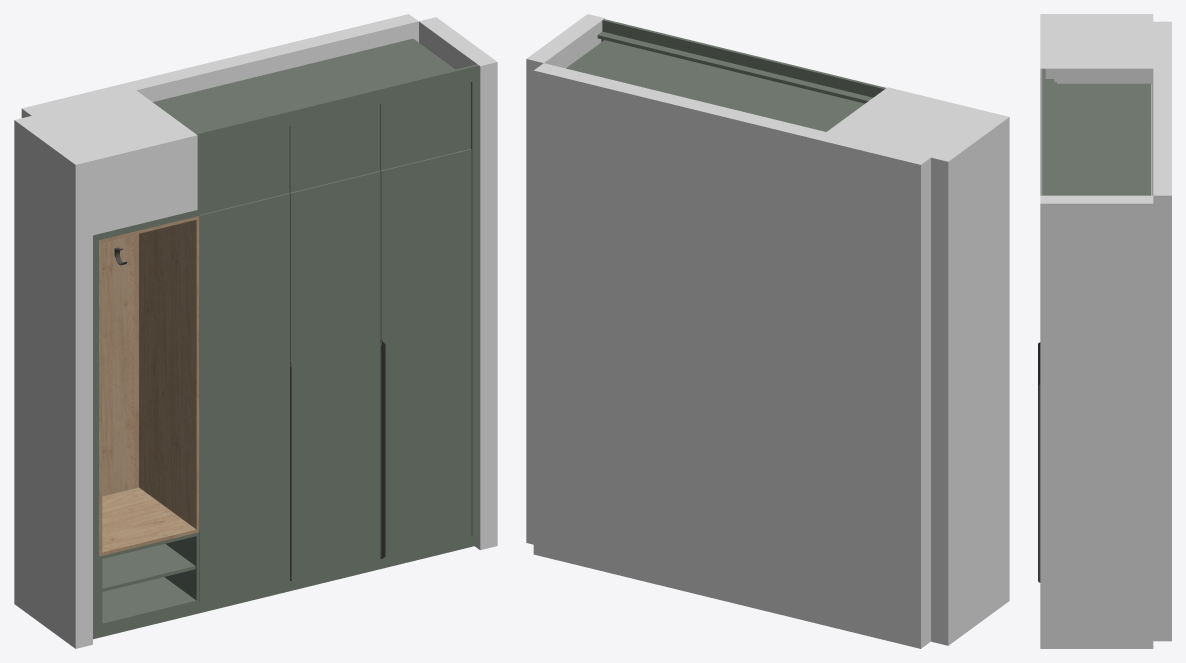
File: ELOSZOBA.glb
3 renders of one model, left to right at view 1: azimuth 30°, elevation 25°; view 2: azimuth 150°, elevation 25°; view 3: azimuth 270°, elevation 25°, orthographic. The views are drawn at different scales.
Visible parts, largest first — view 1: 3DGeom-2 (×2), 3DGeom-108, 3DGeom-43, 3DGeom-97, 3DGeom-1, 3DGeom-29, 3DGeom-31, 3DGeom-159, 3DGeom-145, 3DGeom-165, 3DGeom-171, 3DGeom-191 (+14 smaller); view 2: 3DGeom-1, 3DGeom-2 (×2), 3DGeom-159, 3DGeom-191, 3DGeom-138, 3DGeom-188, 3DGeom-190; view 3: 3DGeom-2 (×2), 3DGeom-1, 3DGeom-159, 3DGeom-138, 3DGeom-188, 3DGeom-95, 3DGeom-190.
Boxes of the visible parts, <box> form: 3DGeom-2 (×2): <box>14,17,497,648</box>; 3DGeom-108: <box>290,171,380,579</box>; 3DGeom-43: <box>200,194,289,602</box>; 3DGeom-97: <box>381,149,471,557</box>; 3DGeom-1: <box>21,14,418,235</box>; 3DGeom-29: <box>139,220,196,529</box>; 3DGeom-31: <box>102,234,138,496</box>; 3DGeom-159: <box>235,39,451,112</box>; 3DGeom-145: <box>199,126,289,214</box>; 3DGeom-165: <box>290,104,380,192</box>; 3DGeom-171: <box>381,82,470,170</box>; 3DGeom-191: <box>197,65,479,148</box>; 3DGeom-1: <box>533,63,991,648</box>; 3DGeom-2 (×2): <box>526,14,1009,645</box>; 3DGeom-159: <box>569,41,782,111</box>; 3DGeom-191: <box>602,20,884,97</box>; 3DGeom-138: <box>751,85,864,131</box>; 3DGeom-188: <box>597,31,872,103</box>; 3DGeom-190: <box>602,19,885,89</box>; 3DGeom-2 (×2): <box>1040,14,1153,648</box>; 3DGeom-1: <box>1040,21,1171,641</box>; 3DGeom-159: <box>1054,125,1150,195</box>; 3DGeom-138: <box>1054,85,1150,122</box>; 3DGeom-188: <box>1045,79,1054,195</box>; 3DGeom-95: <box>1038,384,1040,582</box>; 3DGeom-190: <box>1042,68,1045,195</box>.
Bounding box in the file's own units: 2.42 × 2.66 × 0.7224.
13 materials, 5 textured.
